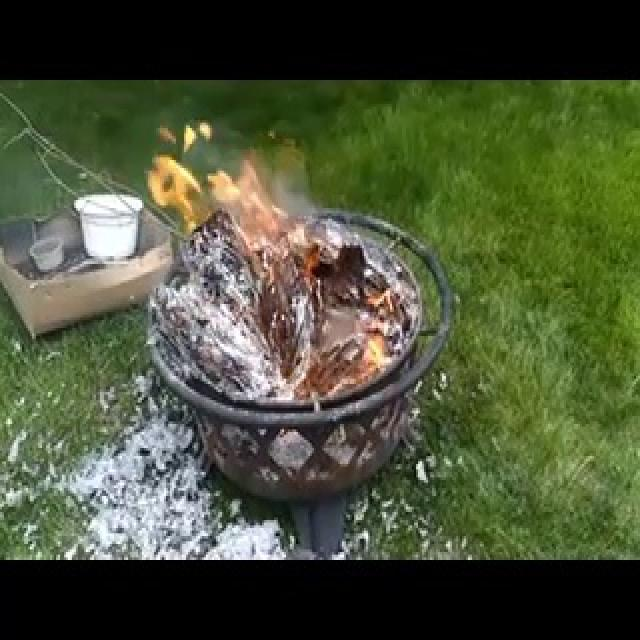fire: (157, 118, 395, 402)
